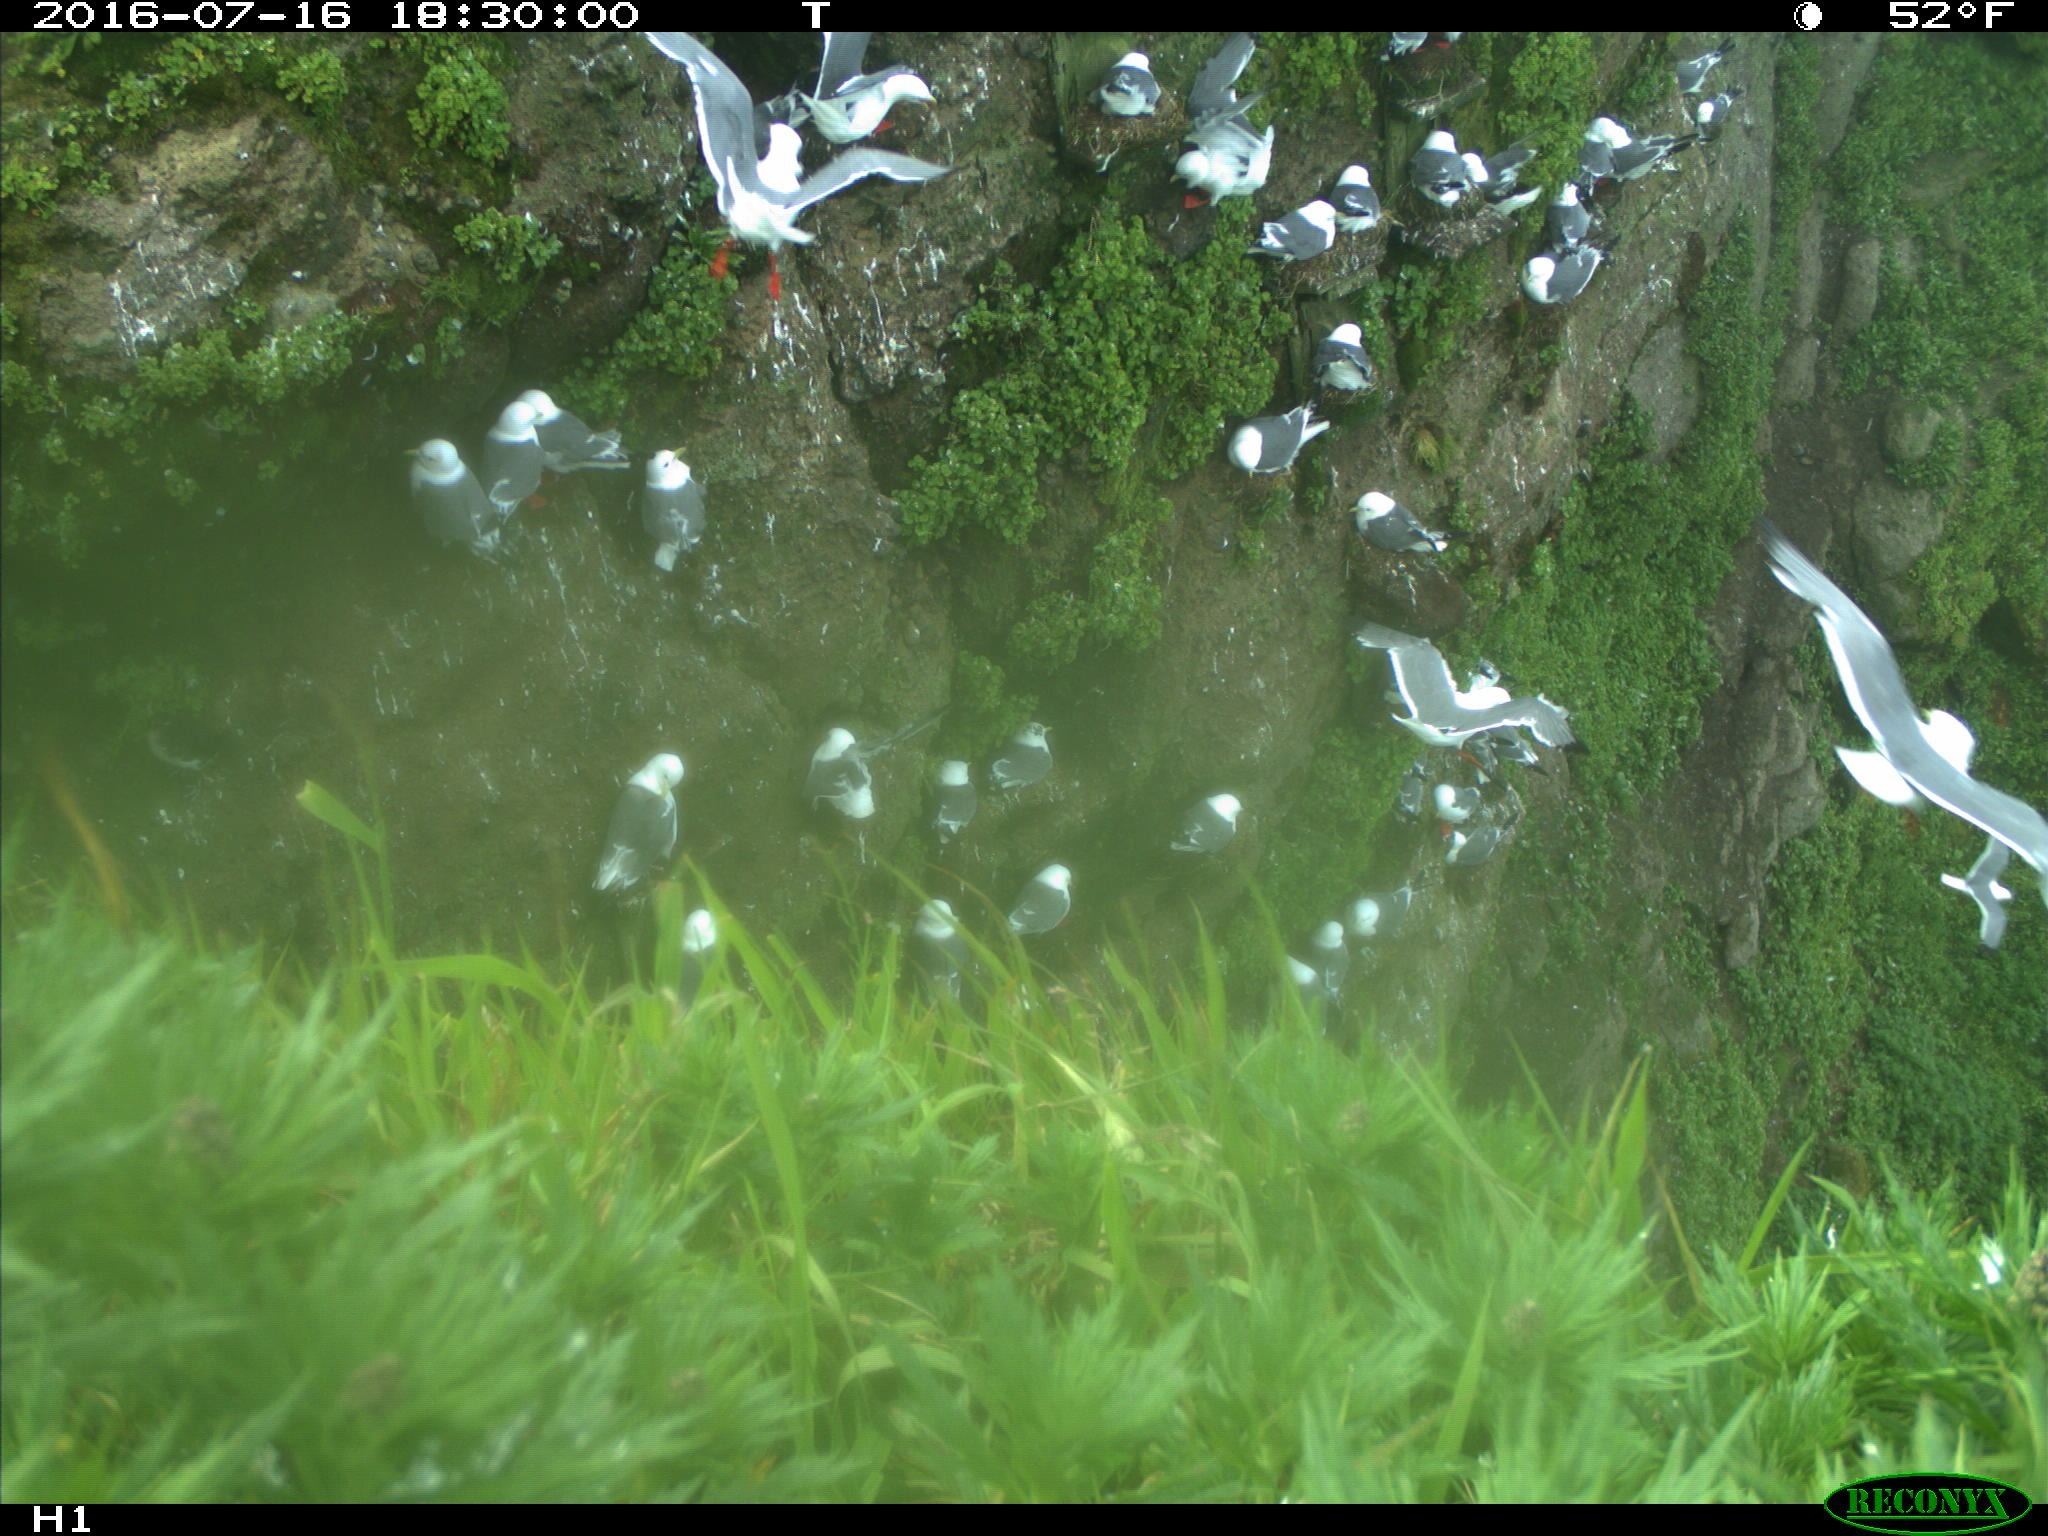Kittiwake: (1730, 470, 2048, 933), (608, 27, 984, 303), (1326, 595, 1642, 763), (1158, 34, 1329, 229), (774, 19, 974, 179), (555, 737, 719, 916), (393, 416, 527, 591), (787, 695, 910, 854), (1193, 402, 1377, 499), (1397, 768, 1556, 879), (1925, 823, 2035, 984), (1272, 908, 1384, 1062), (1340, 486, 1509, 582), (984, 834, 1097, 979), (518, 371, 650, 494), (1230, 181, 1393, 274), (905, 887, 1016, 1015), (621, 426, 718, 570), (474, 399, 571, 539), (1632, 45, 1779, 137), (1563, 102, 1701, 198), (1155, 778, 1280, 884), (1064, 19, 1166, 148), (1405, 113, 1514, 231), (1321, 142, 1429, 247), (913, 742, 1009, 857), (1508, 232, 1632, 319), (1293, 311, 1422, 394), (1472, 123, 1574, 224), (1337, 863, 1442, 962), (984, 699, 1076, 795), (1548, 161, 1632, 240), (1350, 31, 1477, 74)
